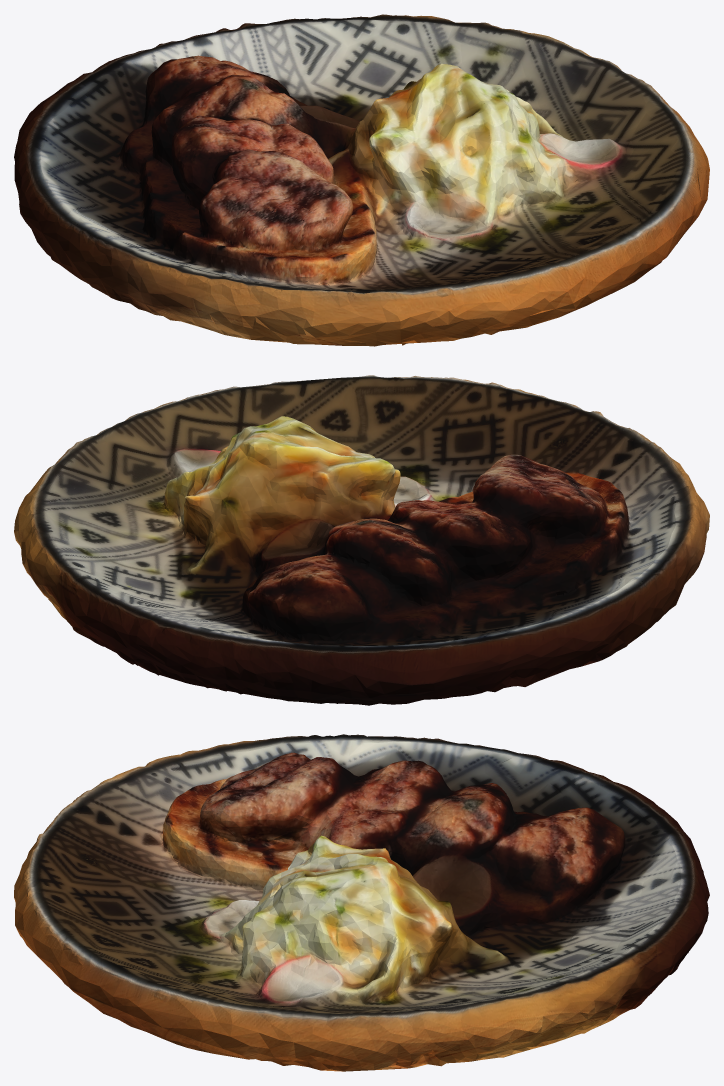
File: kofte.glb
The picture shows the model from 3 angles, top to bottom: view 1: azimuth 30°, elevation 25°; view 2: azimuth 150°, elevation 25°; view 3: azimuth 270°, elevation 25°; orthographic projection.
Parts seen in each view (by area): view 1: Mesh_0; view 2: Mesh_0; view 3: Mesh_0.
Boxes of the visible parts, x1,y1,x2,y2 form: Mesh_0: (14, 14, 709, 346); Mesh_0: (14, 375, 709, 705); Mesh_0: (14, 734, 709, 1071).
Size of the model in its own units: 0.1118 by 0.0206 by 0.1127.
Materials: 1 (1 with a texture image).
